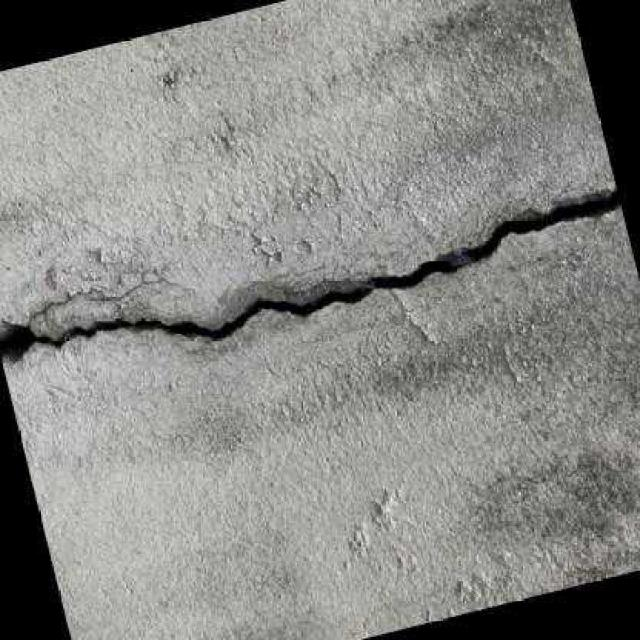D00: (0, 184, 621, 366)
